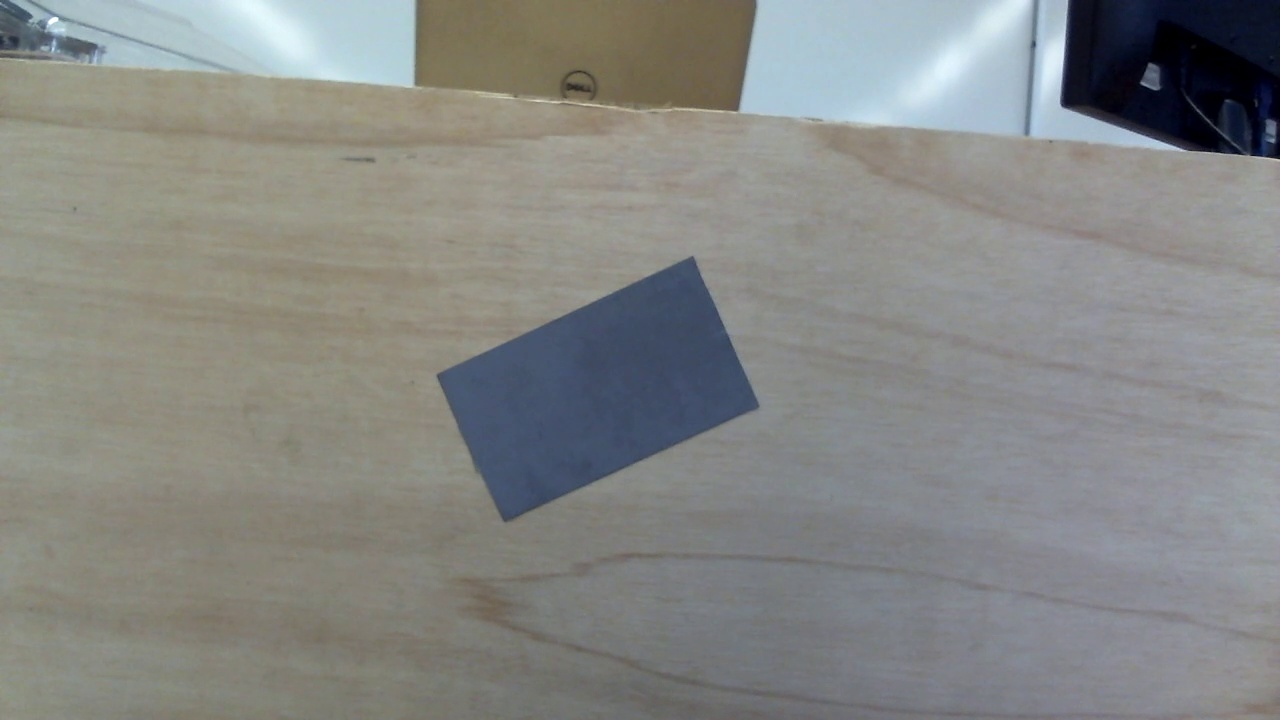Tape: (437, 258, 763, 523)
